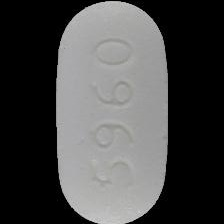0093-5960: (0, 0, 224, 224)
